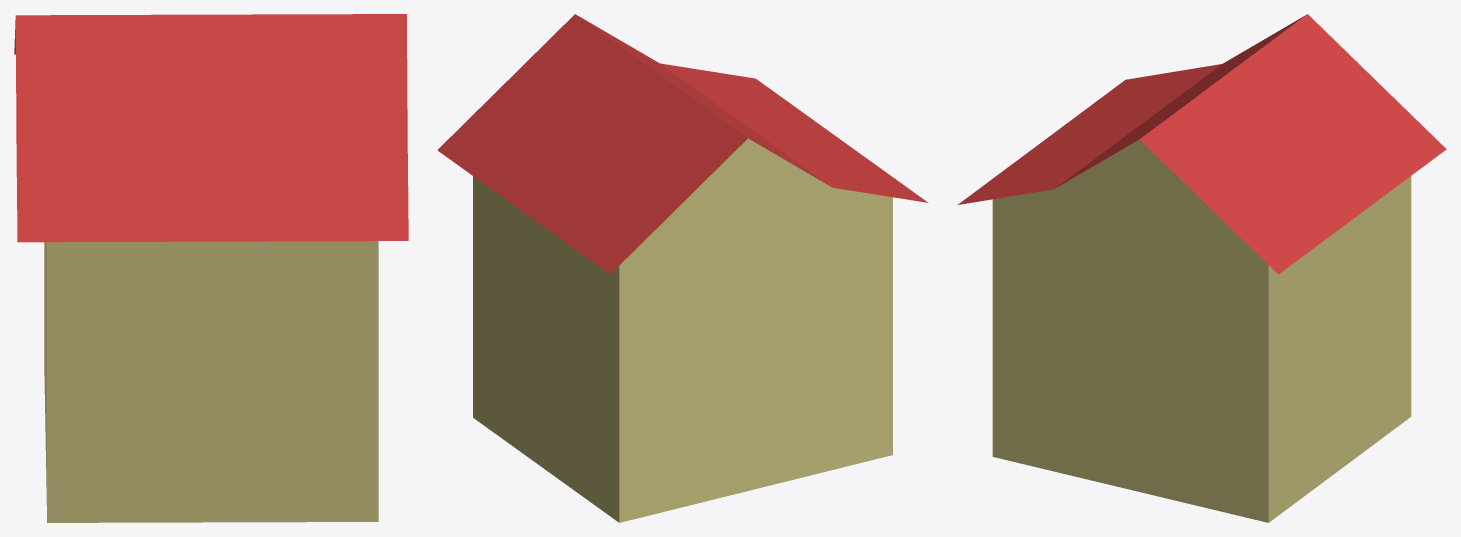
The picture shows the model from 3 angles, left to right: view 1: azimuth 30°, elevation 25°; view 2: azimuth 150°, elevation 25°; view 3: azimuth 270°, elevation 25°; orthographic projection. The views are drawn at different scales.
Size of the model in its own units: 9.2 by 9.41 by 7.74.
